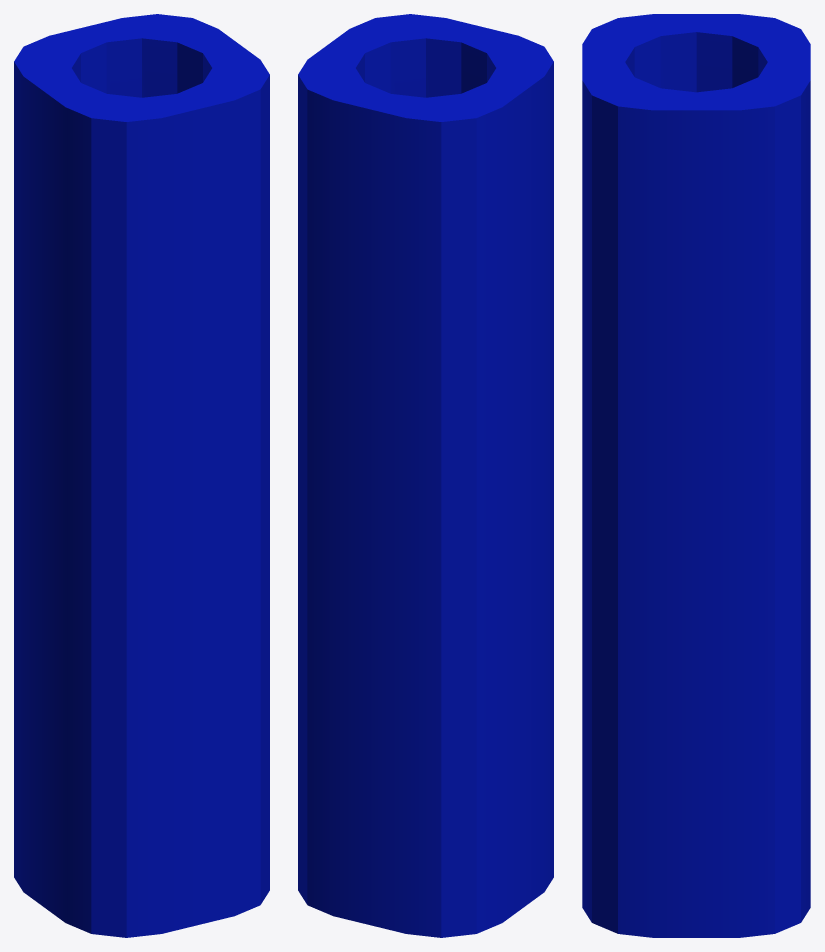
The model's file is HOLE_ROUND.obj.
3 renders of one model, left to right at view 1: azimuth 30°, elevation 25°; view 2: azimuth 150°, elevation 25°; view 3: azimuth 270°, elevation 25°, orthographic.
Parts seen in each view (by area): view 1: Cube.006; view 2: Cube.006; view 3: Cube.006.
Boxes of the visible parts, x1=… form: Cube.006: x1=14, y1=14, x2=269, y2=937; Cube.006: x1=298, y1=14, x2=553, y2=937; Cube.006: x1=582, y1=14, x2=810, y2=937.
Size of the model in its own units: 2 by 8 by 2.
